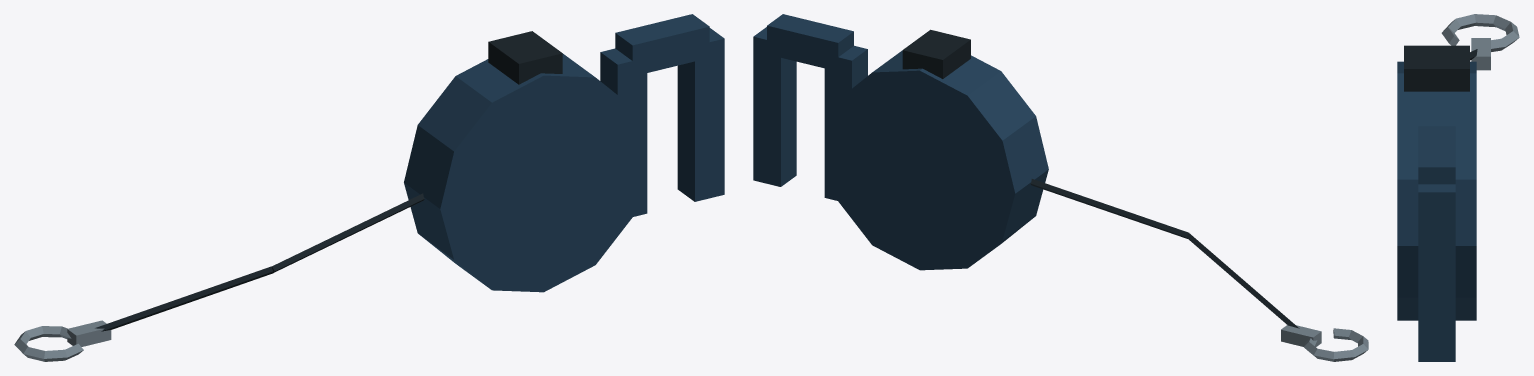
File: b17_retractable_dog_leash.glb
3 renders of one model, left to right at view 1: azimuth 30°, elevation 25°; view 2: azimuth 150°, elevation 25°; view 3: azimuth 270°, elevation 25°, orthographic. The views are drawn at different scales.
Visible parts, largest first — view 1: b17_retractable_dog_leash; view 2: b17_retractable_dog_leash; view 3: b17_retractable_dog_leash.
Boxes of the visible parts, x1,y1,x2,y2 form: b17_retractable_dog_leash: [14, 14, 724, 361]; b17_retractable_dog_leash: [753, 14, 1368, 361]; b17_retractable_dog_leash: [1397, 14, 1519, 361].
Bounding box in the file's own units: 0.3852 × 0.126 × 0.0555.
